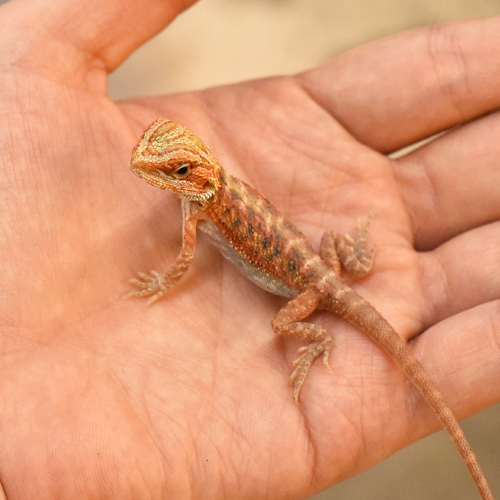bearded: (125, 118, 493, 500)
